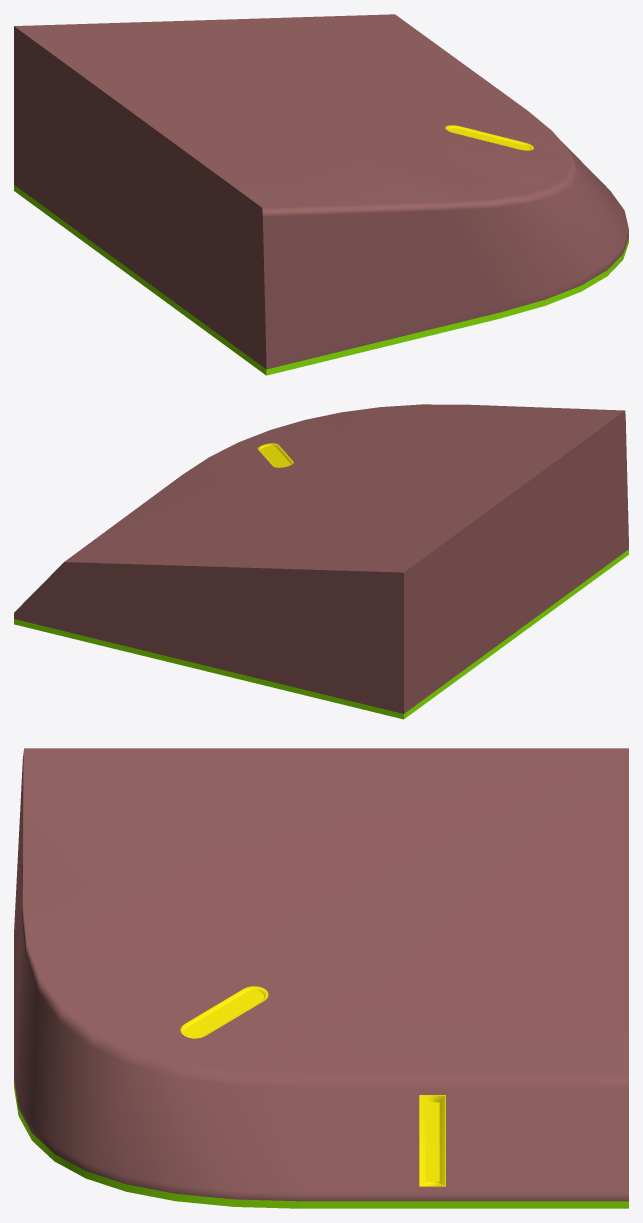
File: Building_Roof_02b_snaps016.fbx
3 renders of one model, top to bottom at view 1: azimuth 30°, elevation 25°; view 2: azimuth 150°, elevation 25°; view 3: azimuth 270°, elevation 25°, orthographic. The views are drawn at different scales.
Visible parts, largest first — view 1: Building_Roof_02b_snaps016_LOD0; view 2: Building_Roof_02b_snaps016_LOD0; view 3: Building_Roof_02b_snaps016_LOD0.
Part boxes in pixels (x1,y1,x2,y2): Building_Roof_02b_snaps016_LOD0: (14,14,628,375); Building_Roof_02b_snaps016_LOD0: (14,404,628,719); Building_Roof_02b_snaps016_LOD0: (14,748,628,1208).
Size of what is drawn, in the model's own units: 3 by 1.08 by 3.
